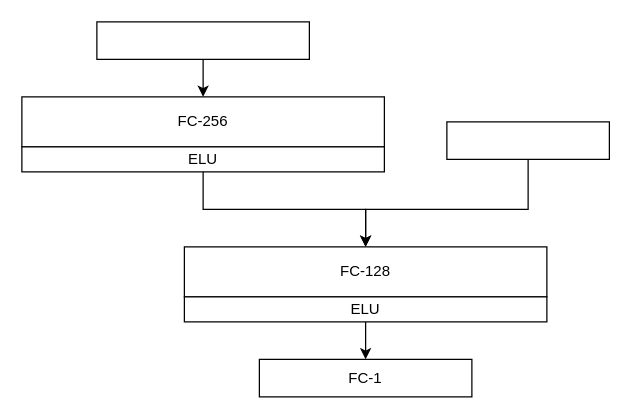
Image size: 631x419. Some labels were removed from this diagram. The shapes that lost their labels are listed below. From the top down, each one's centre as x and y in pixels, then its label:
the point at 202,40: Input 33
the point at 527,140: Input 4
